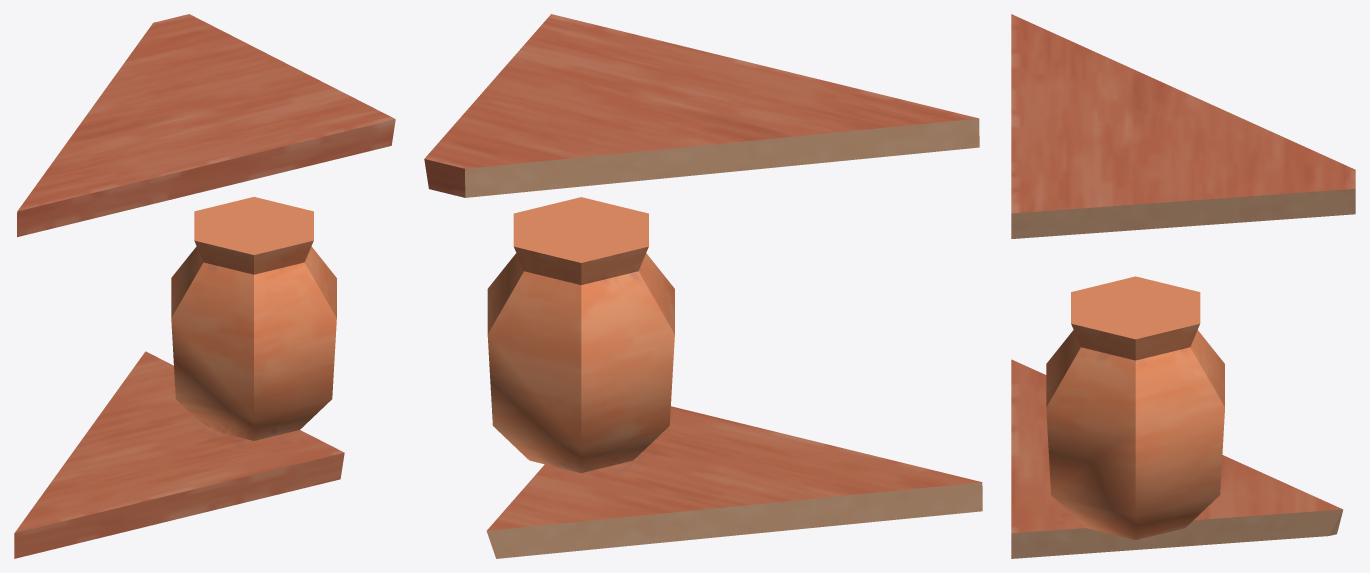
File: pot_rack_s01.fbx
3 views of the same model, side by side, from view 1: azimuth 30°, elevation 25°; view 2: azimuth 150°, elevation 25°; view 3: azimuth 270°, elevation 25° (orthographic). The views are drawn at different scales.
Visible parts, largest first — view 1: pot_rack_s01; view 2: pot_rack_s01; view 3: pot_rack_s01.
Part boxes in pixels (bbox=[...]): pot_rack_s01: bbox=[14, 14, 395, 558]; pot_rack_s01: bbox=[424, 14, 982, 558]; pot_rack_s01: bbox=[1011, 14, 1355, 558].
Size of the model in its own units: 2.49 by 2.16 by 1.8.
